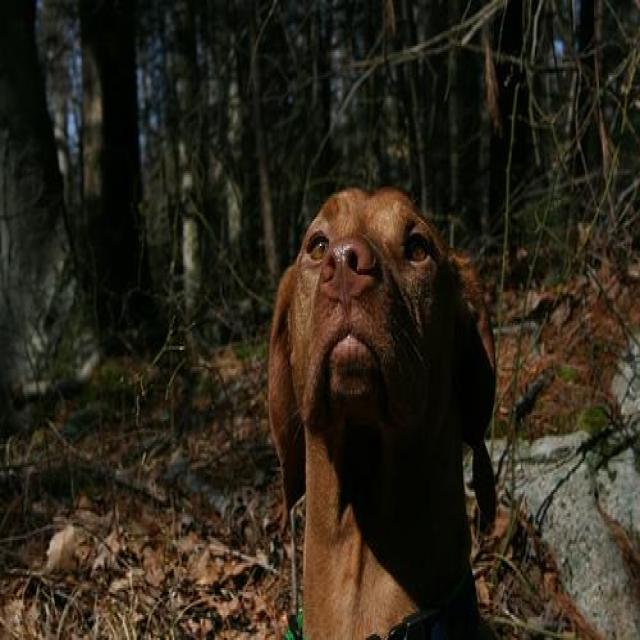vizsla: (261, 181, 497, 636)
